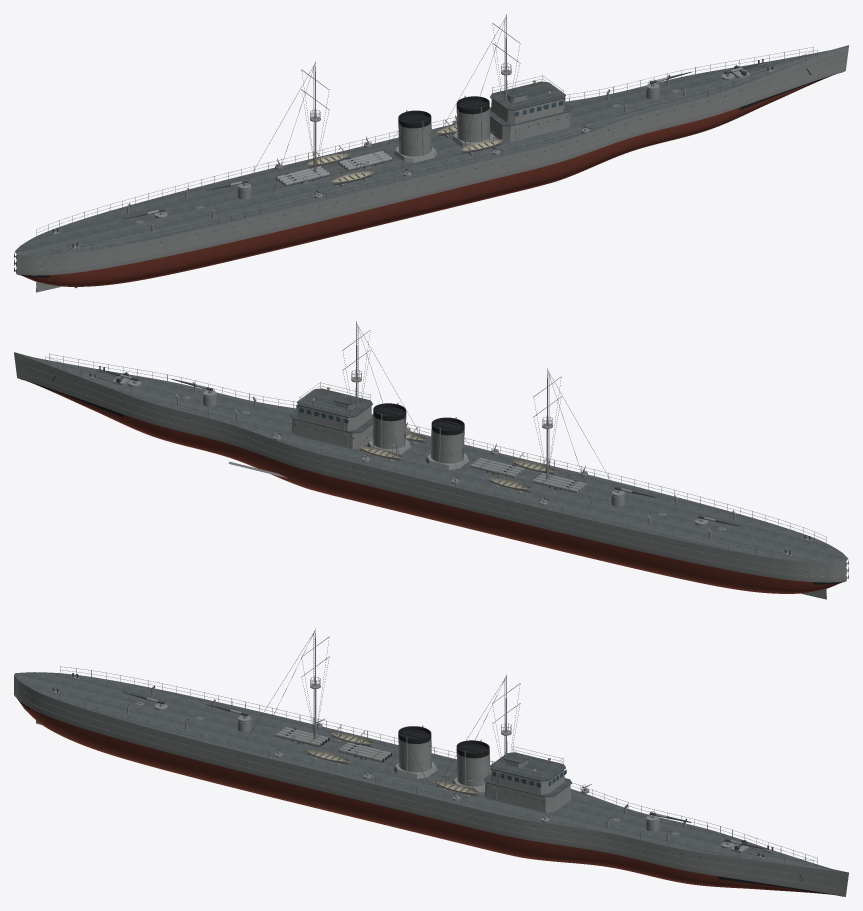
File: ocean_dd30.glb
3 views of the same model, one above another, from view 1: azimuth 30°, elevation 25°; view 2: azimuth 150°, elevation 25°; view 3: azimuth 330°, elevation 25° (orthographic).
Parts seen in each view (by area): view 1: Shtorm escort destroyer; view 2: Shtorm escort destroyer; view 3: Shtorm escort destroyer.
Boxes of the visible parts, x1=… form: Shtorm escort destroyer: x1=14, y1=14, x2=848, y2=292; Shtorm escort destroyer: x1=14, y1=321, x2=848, y2=599; Shtorm escort destroyer: x1=14, y1=628, x2=848, y2=896.
Size of the model in its own units: 125 by 23.68 by 12.48.
9 materials, 8 textured.
